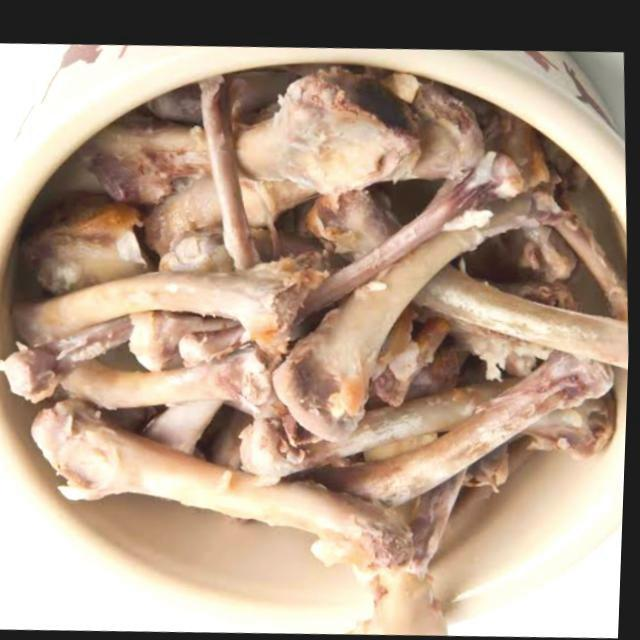left_over_food: (34, 399, 419, 569), (274, 189, 533, 434), (297, 107, 551, 320), (314, 343, 616, 501), (14, 247, 331, 352), (237, 61, 472, 191), (243, 372, 507, 481), (407, 252, 631, 357), (373, 465, 469, 630), (63, 339, 285, 408), (200, 72, 274, 264), (25, 187, 157, 293), (377, 305, 518, 401), (479, 382, 621, 474), (72, 112, 211, 200), (0, 312, 135, 398), (545, 172, 630, 306), (140, 165, 240, 268), (313, 175, 440, 254), (129, 306, 259, 370), (503, 218, 581, 301), (239, 160, 322, 235), (137, 396, 229, 452)
